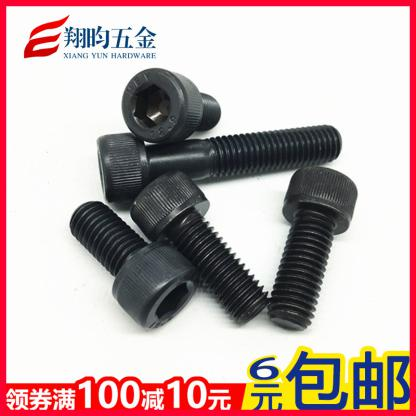FOD: (126, 167, 270, 330), (94, 122, 342, 204), (69, 197, 202, 331), (265, 163, 359, 338), (119, 65, 223, 147)
